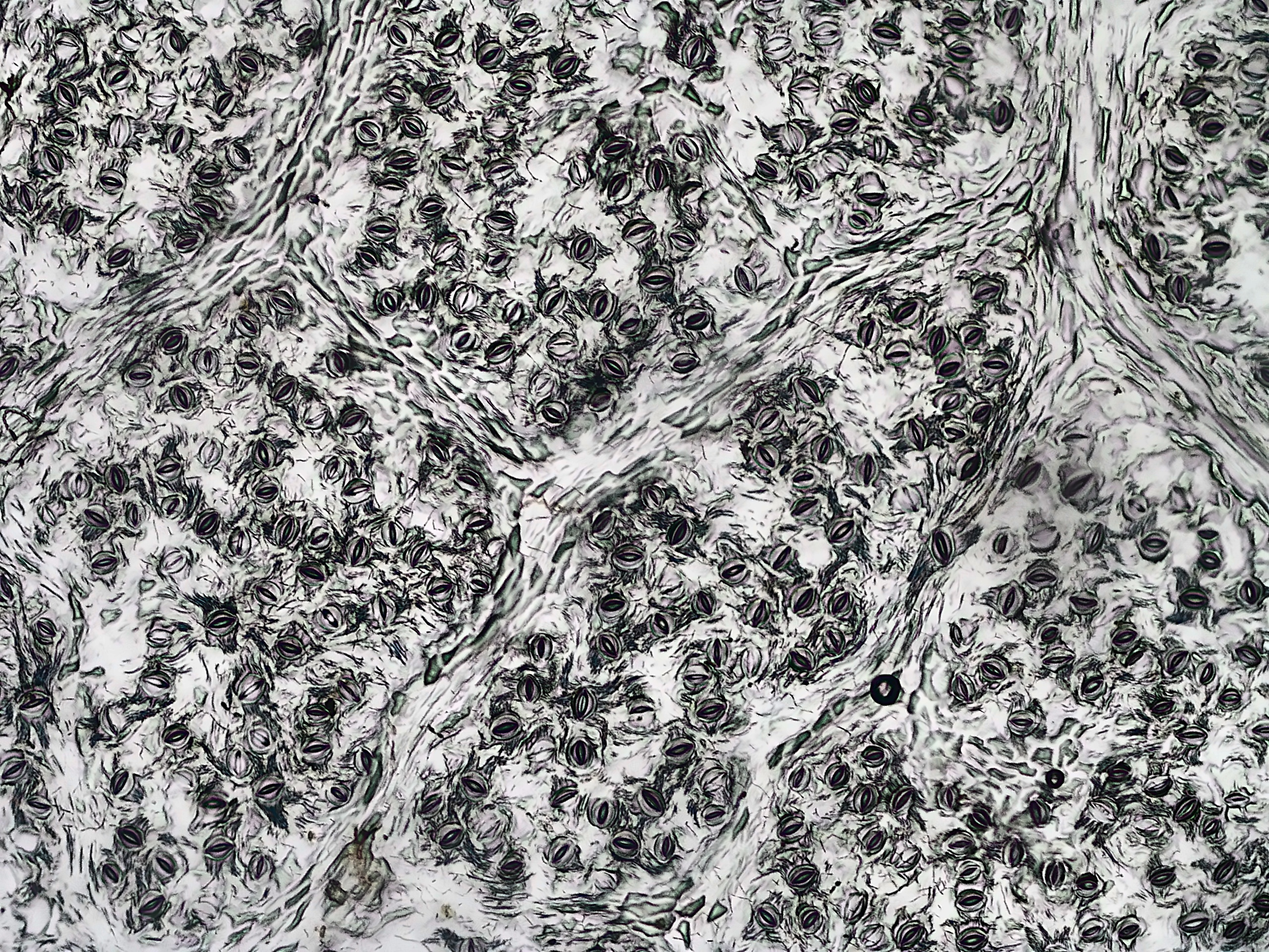stomata: (423, 231, 466, 265), (992, 580, 1027, 618), (983, 95, 1018, 131), (790, 373, 827, 407), (1134, 529, 1173, 561), (376, 149, 422, 176), (228, 673, 274, 700), (129, 896, 173, 924), (1058, 473, 1098, 503), (607, 545, 651, 572), (664, 516, 700, 549), (634, 785, 671, 817), (15, 20, 44, 60), (1163, 274, 1198, 307), (593, 630, 630, 661), (56, 201, 87, 238), (0, 748, 30, 786), (953, 925, 998, 950), (1025, 794, 1059, 827), (793, 905, 827, 938), (412, 194, 452, 222), (418, 81, 458, 109), (482, 713, 525, 739), (534, 284, 570, 315), (935, 833, 985, 855), (133, 669, 177, 694), (188, 193, 227, 221), (748, 900, 782, 932), (1167, 482, 1199, 516), (545, 328, 579, 360), (738, 645, 769, 680), (513, 674, 548, 705), (472, 40, 507, 71), (677, 664, 717, 691), (1000, 835, 1029, 872), (854, 314, 883, 351), (679, 33, 707, 71), (480, 155, 518, 183), (202, 609, 240, 637), (949, 671, 981, 704), (584, 291, 617, 323), (383, 19, 416, 51), (891, 846, 925, 877), (566, 685, 596, 720), (643, 157, 672, 193), (197, 837, 238, 862), (100, 60, 132, 92), (545, 836, 578, 867), (456, 770, 490, 800), (775, 814, 809, 844), (1120, 491, 1154, 521), (585, 509, 620, 538), (153, 326, 188, 355), (1185, 43, 1224, 69), (759, 33, 795, 61), (593, 593, 630, 620), (547, 52, 584, 79), (50, 29, 82, 60), (10, 824, 41, 856), (786, 583, 819, 613), (1200, 229, 1230, 262), (21, 792, 59, 818), (612, 311, 646, 340), (160, 124, 194, 153), (785, 862, 820, 890), (79, 503, 114, 531), (623, 697, 659, 724), (662, 737, 698, 764), (1039, 855, 1066, 891), (692, 697, 729, 723), (96, 859, 127, 890), (526, 633, 556, 665), (857, 745, 897, 769), (754, 408, 786, 438), (938, 71, 970, 101), (428, 26, 460, 56), (742, 596, 771, 629), (856, 827, 889, 856), (97, 703, 126, 736), (855, 916, 883, 950), (348, 118, 383, 145), (930, 526, 956, 562), (825, 519, 861, 545), (1085, 797, 1121, 823), (782, 77, 821, 101), (154, 722, 190, 748), (190, 162, 229, 186), (1234, 576, 1265, 606), (20, 687, 51, 717), (588, 798, 620, 827), (851, 782, 880, 814), (889, 784, 918, 816), (1161, 647, 1193, 676), (1160, 143, 1192, 172), (605, 172, 634, 204), (411, 282, 440, 314), (149, 851, 181, 880), (270, 514, 299, 546), (38, 145, 67, 177), (866, 21, 903, 46), (273, 635, 310, 660), (890, 298, 923, 326), (841, 890, 868, 924), (975, 656, 1009, 683), (597, 136, 635, 160), (1004, 709, 1039, 735), (806, 19, 841, 45), (596, 353, 631, 379), (254, 777, 289, 803), (433, 155, 474, 177), (668, 352, 704, 377), (537, 400, 573, 425), (363, 215, 399, 240), (376, 83, 412, 108), (246, 853, 276, 883), (52, 80, 82, 110), (730, 264, 759, 295), (567, 234, 598, 263), (641, 481, 669, 513), (766, 544, 798, 572), (904, 417, 932, 449), (152, 546, 184, 574), (107, 767, 134, 800), (232, 49, 265, 76), (296, 738, 333, 762), (46, 119, 80, 145), (1174, 82, 1209, 107), (619, 218, 654, 243), (482, 248, 517, 273), (935, 9, 973, 32), (477, 117, 515, 140), (718, 556, 748, 585), (934, 782, 963, 812), (303, 523, 333, 552), (232, 309, 262, 338), (966, 805, 997, 833), (113, 821, 144, 849), (321, 781, 357, 805), (193, 506, 220, 538), (269, 374, 296, 406), (265, 288, 297, 315), (809, 431, 835, 464), (879, 338, 912, 364), (372, 289, 405, 315), (295, 559, 328, 585), (101, 242, 134, 268), (1038, 648, 1075, 671), (1190, 522, 1227, 545), (1145, 228, 1168, 265), (781, 646, 815, 671), (781, 120, 806, 154), (27, 617, 61, 642), (611, 831, 640, 860), (895, 921, 924, 950), (1159, 183, 1188, 212), (787, 497, 822, 521), (1176, 586, 1211, 610), (969, 279, 1004, 303), (252, 580, 282, 608), (318, 455, 348, 483), (372, 593, 399, 624), (448, 286, 479, 313), (250, 438, 277, 469), (226, 139, 253, 170), (667, 226, 699, 252), (397, 115, 430, 140), (159, 25, 184, 58), (1227, 95, 1266, 116), (937, 420, 971, 444), (341, 477, 375, 501), (349, 746, 377, 775), (244, 723, 273, 751), (194, 438, 222, 467), (819, 625, 849, 652), (653, 833, 680, 863), (496, 298, 526, 325), (338, 408, 368, 435), (704, 637, 730, 668), (826, 591, 857, 617), (1233, 643, 1264, 669), (113, 25, 144, 51), (1133, 817, 1168, 840), (414, 794, 446, 819), (523, 739, 556, 763), (420, 440, 453, 464), (999, 4, 1023, 37), (565, 159, 593, 187), (527, 371, 554, 400), (323, 347, 350, 376), (433, 823, 467, 846), (1176, 911, 1210, 934), (580, 388, 614, 411), (93, 168, 127, 191), (657, 574, 687, 600), (785, 764, 815, 790), (315, 605, 345, 631), (942, 620, 968, 650), (1211, 858, 1241, 884), (988, 530, 1018, 556), (372, 178, 409, 199), (108, 112, 129, 149), (700, 769, 731, 794), (346, 536, 371, 567), (337, 677, 362, 708), (14, 183, 39, 214), (856, 450, 878, 485), (298, 699, 330, 723), (0, 565, 17, 610), (678, 307, 711, 330), (511, 12, 544, 35), (169, 229, 202, 252), (566, 740, 593, 768), (1025, 526, 1061, 547), (953, 450, 980, 478), (1213, 484, 1239, 513), (978, 353, 1007, 379), (1015, 461, 1041, 490), (65, 471, 91, 500), (1196, 547, 1226, 572), (151, 454, 181, 479), (955, 889, 989, 911), (85, 552, 119, 574), (226, 528, 250, 559), (103, 463, 127, 494), (1108, 626, 1140, 649), (843, 209, 875, 232), (1173, 724, 1208, 745), (1023, 566, 1058, 587), (692, 590, 719, 617), (196, 348, 223, 375), (754, 441, 780, 469), (675, 135, 703, 161), (502, 73, 535, 95), (249, 479, 282, 501), (1241, 56, 1266, 85), (819, 151, 848, 176), (168, 383, 197, 408), (1114, 917, 1144, 941), (484, 340, 514, 364), (855, 76, 878, 107), (121, 362, 152, 385), (146, 85, 177, 108), (460, 509, 492, 531), (1142, 774, 1174, 796), (1213, 687, 1245, 709), (473, 816, 500, 842), (907, 103, 934, 129), (448, 327, 474, 354), (214, 91, 240, 118), (824, 761, 849, 789), (593, 866, 621, 891), (955, 855, 980, 883), (1199, 115, 1227, 140), (225, 746, 249, 775), (639, 268, 672, 289), (424, 579, 454, 602), (924, 325, 947, 355), (1066, 593, 1102, 612), (485, 210, 516, 232), (141, 626, 175, 646), (405, 540, 431, 566), (1079, 677, 1107, 701), (1084, 522, 1105, 554), (794, 167, 818, 195), (288, 23, 316, 47), (232, 352, 261, 375), (195, 793, 230, 812), (189, 61, 208, 96), (945, 38, 975, 60), (1035, 621, 1062, 645), (677, 178, 701, 205), (301, 405, 328, 429), (699, 804, 727, 827), (382, 520, 405, 548), (1073, 872, 1101, 895), (869, 135, 892, 163), (1121, 648, 1150, 670), (933, 355, 962, 377), (547, 788, 577, 809), (453, 470, 483, 491), (788, 467, 818, 488), (1077, 917, 1102, 942), (650, 612, 676, 636), (935, 391, 962, 414), (751, 157, 778, 180), (1103, 761, 1134, 781), (1241, 153, 1269, 175), (827, 112, 859, 131), (897, 485, 921, 510), (1192, 659, 1215, 685), (123, 502, 146, 528), (855, 184, 886, 203), (958, 323, 982, 347), (160, 494, 184, 518), (970, 401, 997, 422), (498, 858, 526, 878), (37, 505, 61, 528), (1151, 867, 1176, 889), (462, 573, 489, 593), (1175, 797, 1197, 821), (1222, 792, 1252, 808), (1148, 698, 1177, 714), (0, 355, 17, 378), (1223, 922, 1244, 940), (1202, 818, 1219, 835)
